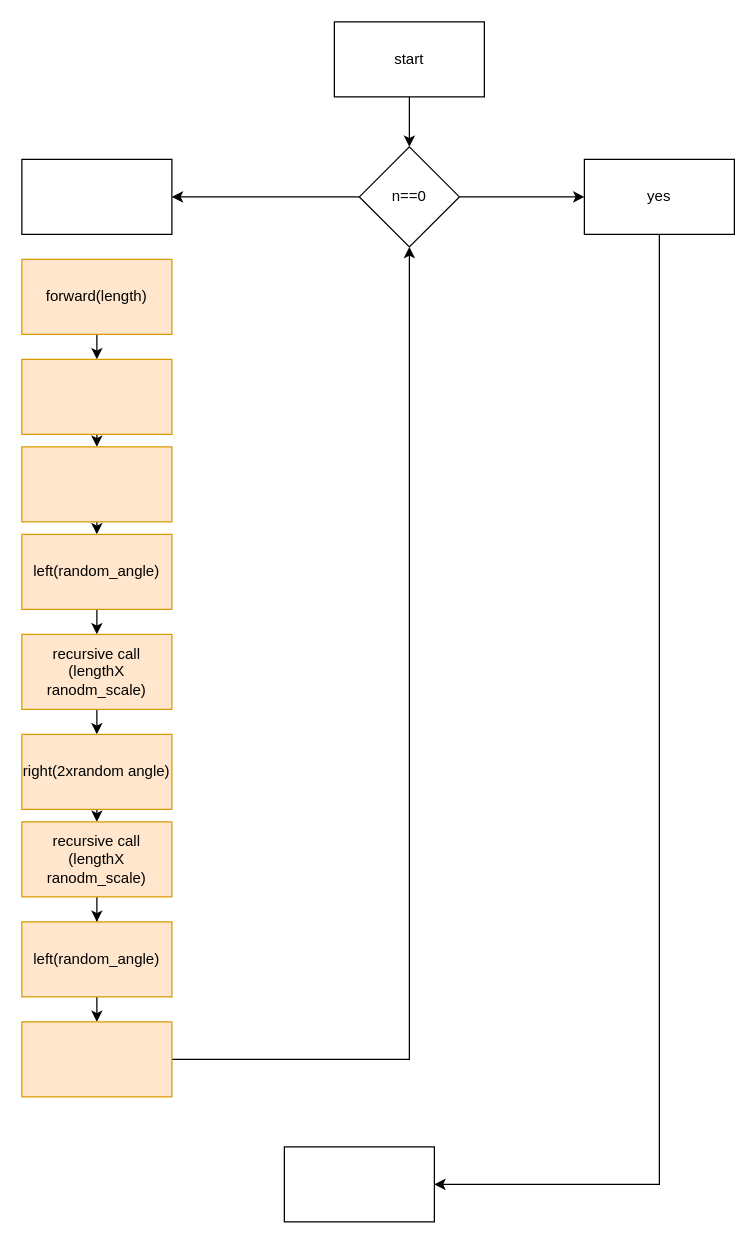
This 756x1244 diagram has some shape labels left out. Here are the shapes that lost their labels. From the top down, the centre of each, then its label:
At [96,196]: "no".
At [96,396]: "generate random_angle".
At [96,484]: "generate random_scale".
At [96,1059]: "backward(length)".
At [358,1184]: "end".
